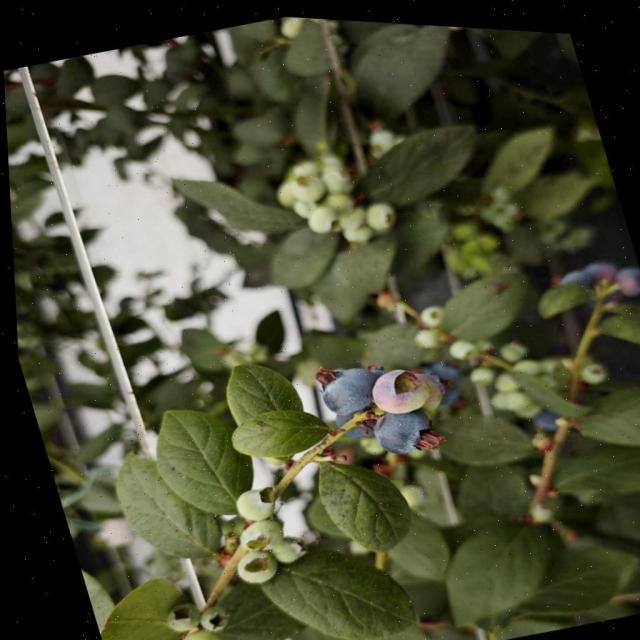RipeBlueBerry: (305, 352, 382, 420), (365, 398, 442, 460)
Semi-RipeBlueBerry: (358, 354, 435, 418)
